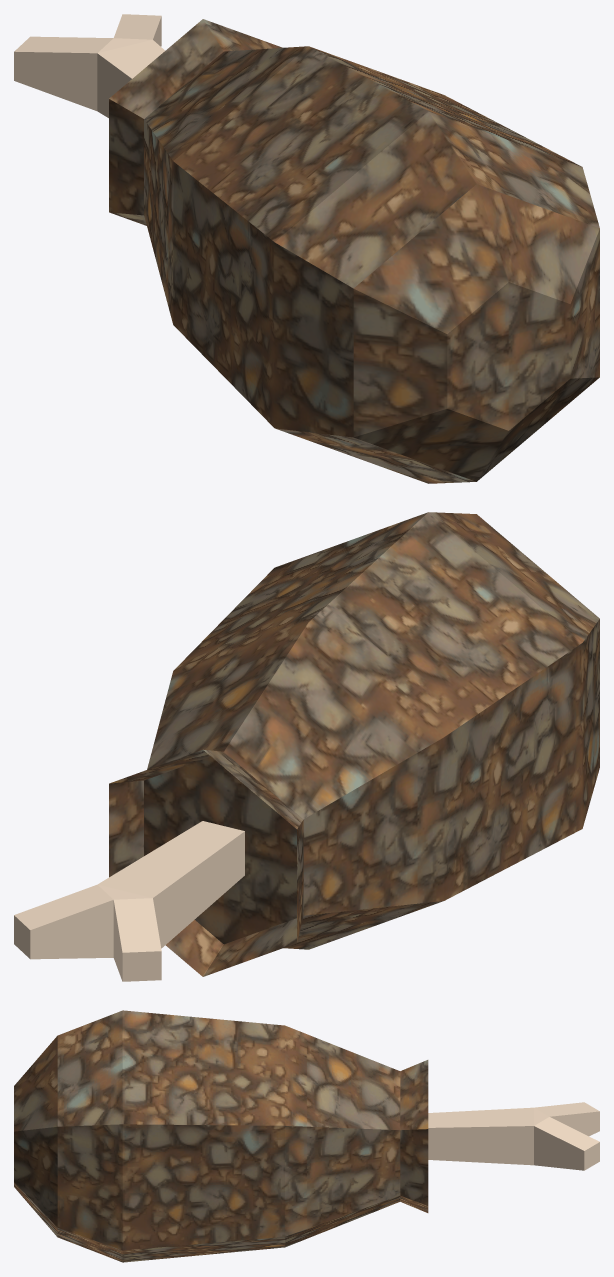
File: undercooked-spicy-chicken.fbx
3 renders of one model, top to bottom at view 1: azimuth 30°, elevation 25°; view 2: azimuth 150°, elevation 25°; view 3: azimuth 270°, elevation 25°, orthographic. The views are drawn at different scales.
Parts seen in each view (by area): view 1: mergedBlocks; view 2: mergedBlocks; view 3: mergedBlocks.
Part boxes in pixels (x1,y1,x2,y2): mergedBlocks: (14,14,599,483); mergedBlocks: (14,512,599,981); mergedBlocks: (14,1010,599,1262).
Size of the model in its own units: 3.41 by 3.94 by 8.29.
2 materials, 1 textured.
